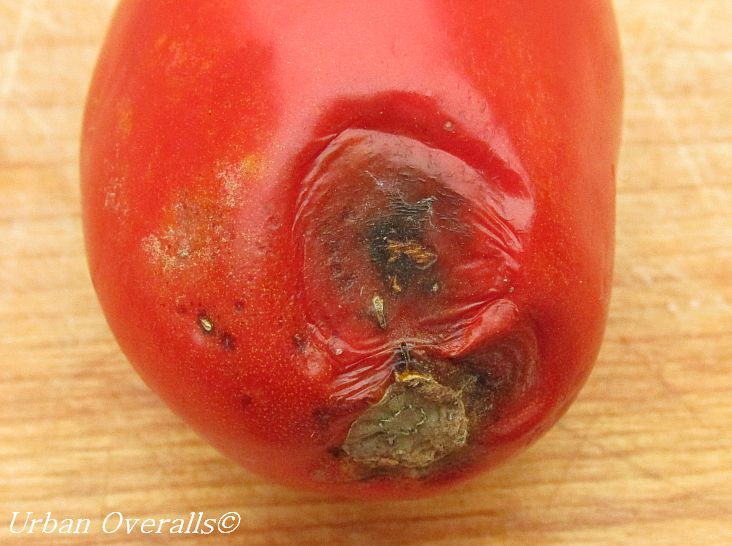anthracnose: (288, 105, 553, 474)
